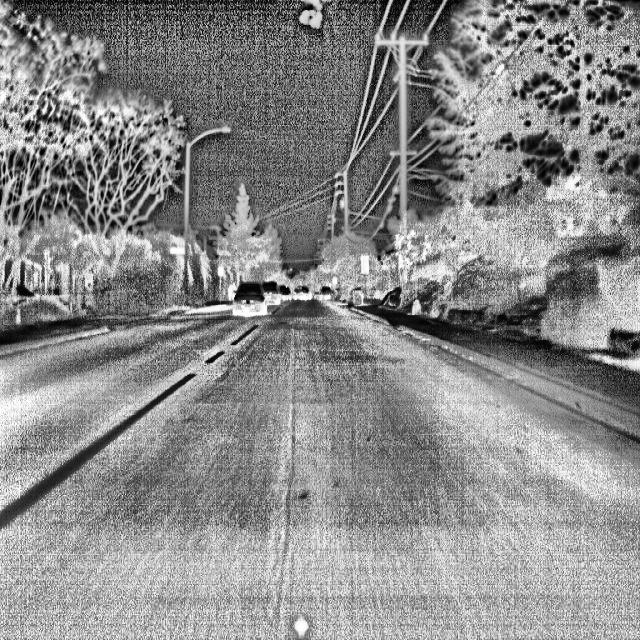car: (232, 276, 268, 323), (254, 273, 280, 314), (293, 276, 318, 314), (270, 276, 294, 312)
light: (200, 119, 254, 152)
